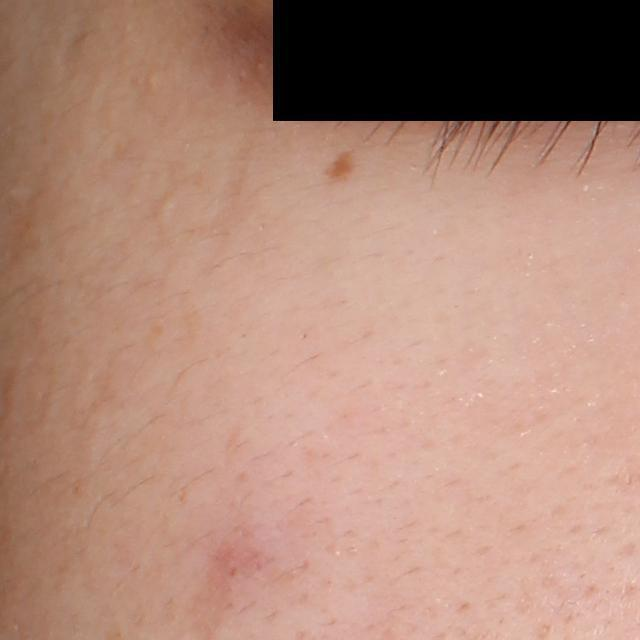melasma: (324, 145, 359, 184)
